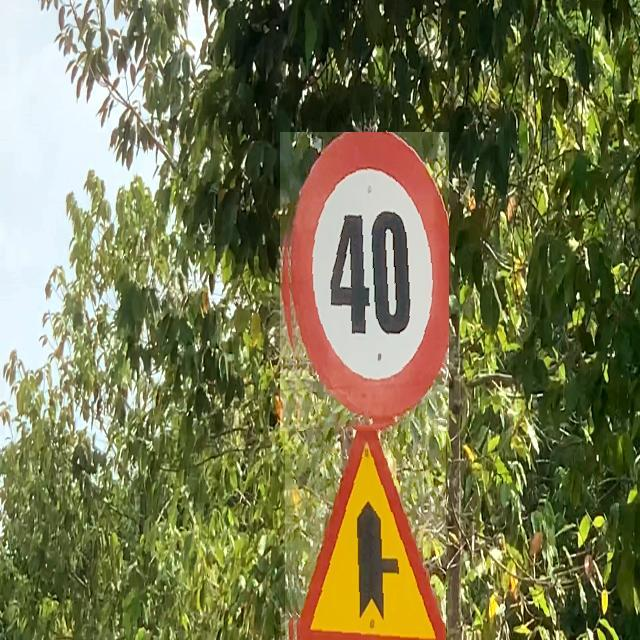P-127: (280, 132, 449, 431)
W-207b: (285, 412, 446, 640)
